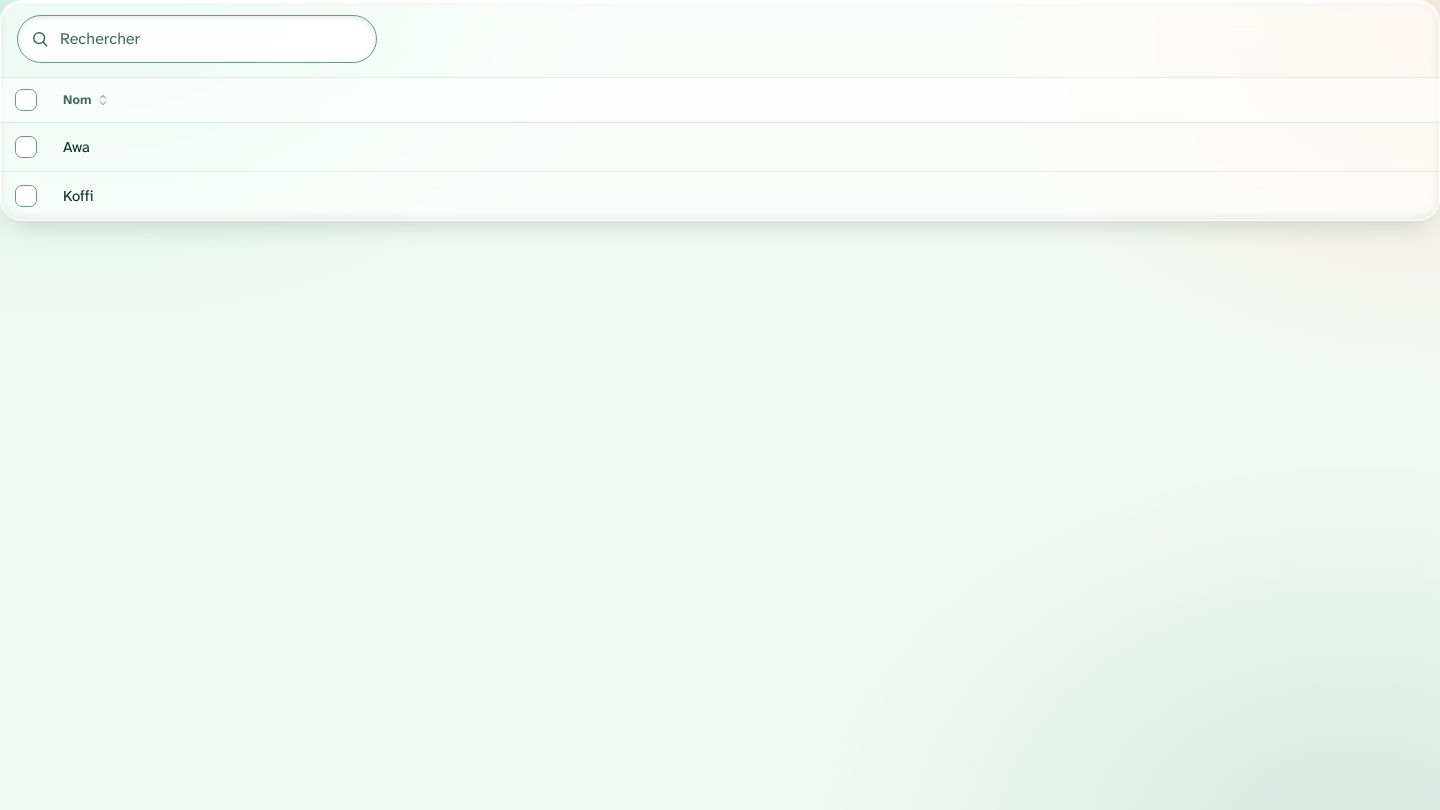
Scenario: kit Bénin Vert › tableau : sélection de toutes les lignes visibles et barre groupée
Expected: the table named "Producteurs" is shown, [1, 78, 1439, 220]
Click the checkbox named "Tout sélectionner": click(26, 100) [15, 89, 37, 111]
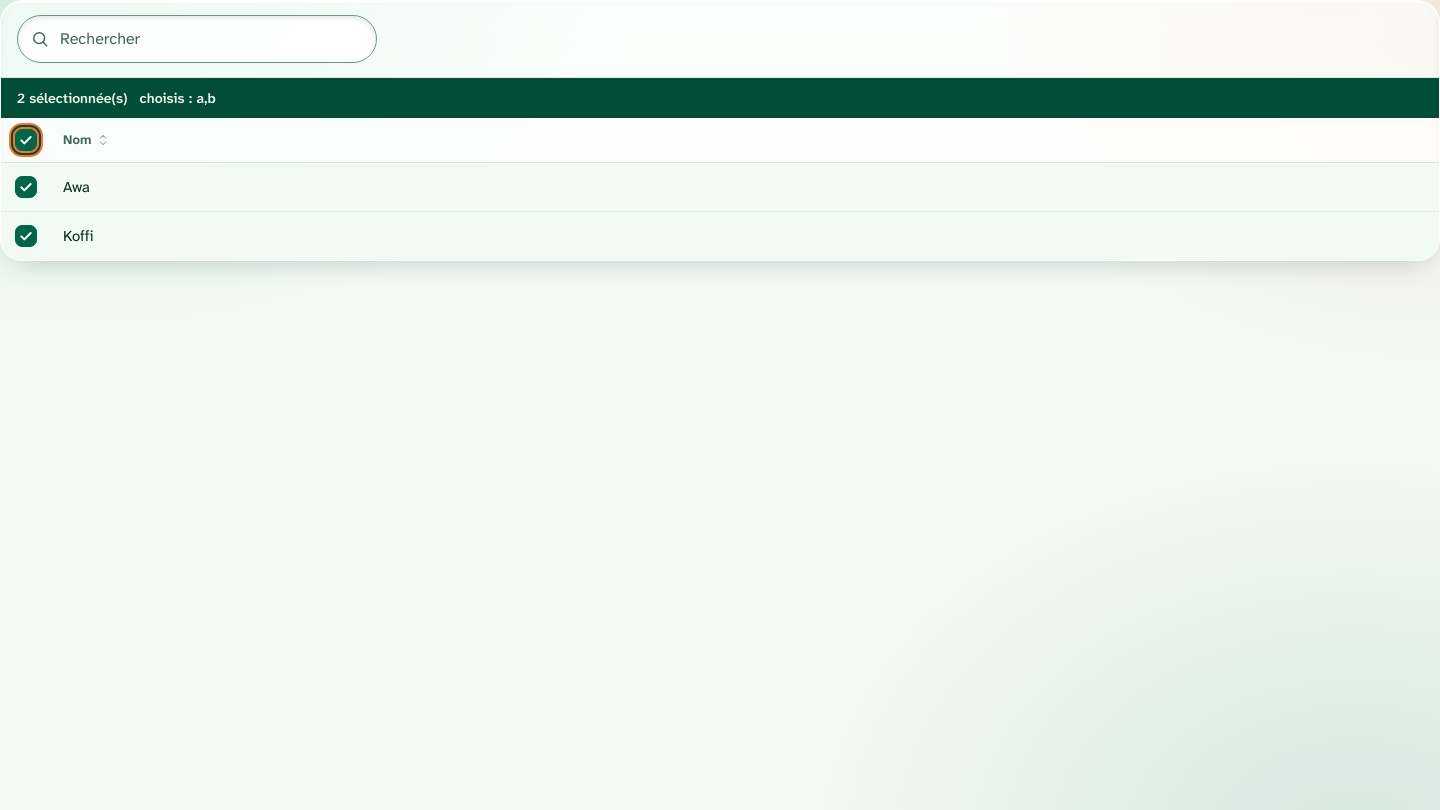
Expected: the text "choisis : a,b" is shown, [140, 86, 216, 110]
Click the checkbox named "Sélectionner la ligne" next to "Awa": click(26, 187) [15, 176, 37, 198]
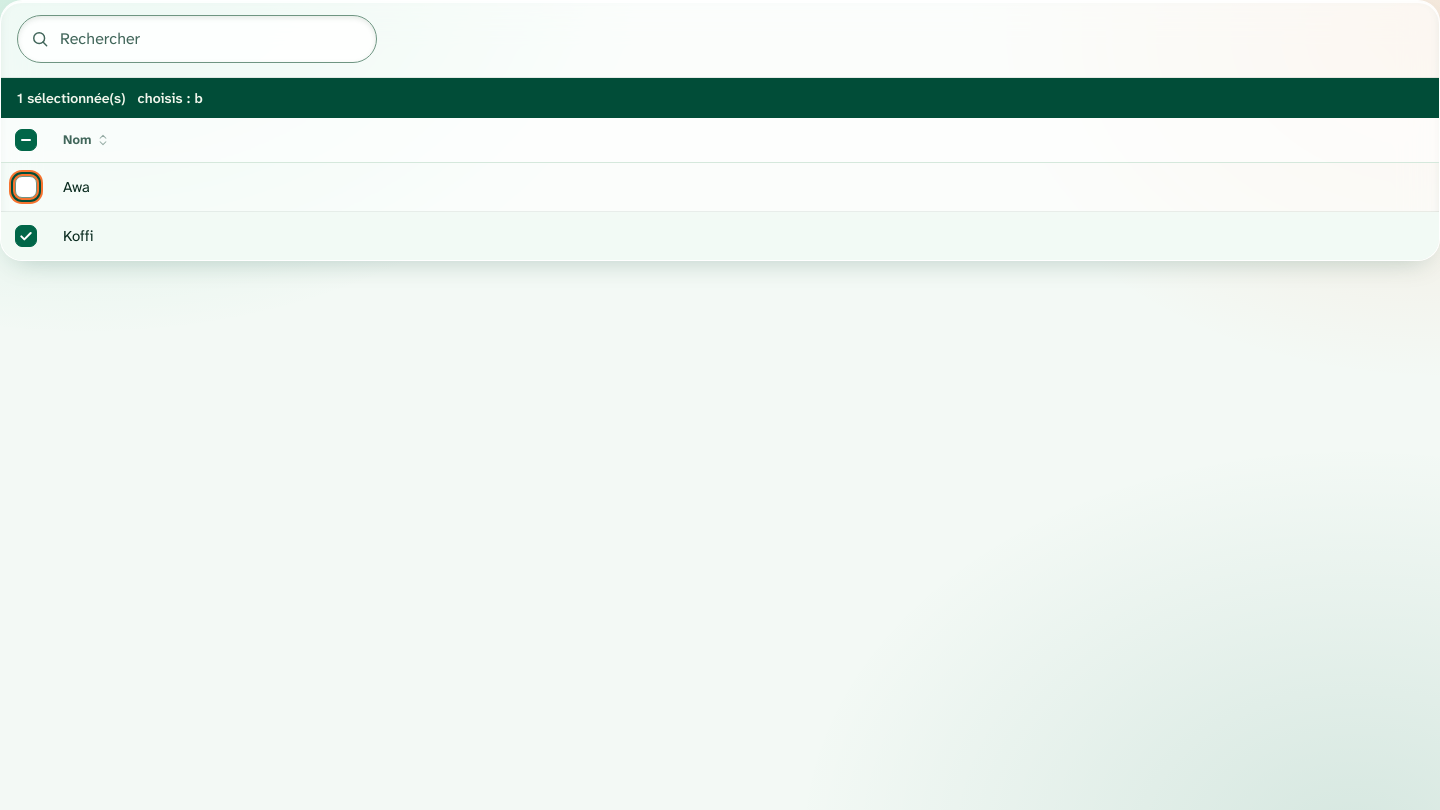
Expected: the text "choisis : b" is shown, [138, 86, 203, 110]
